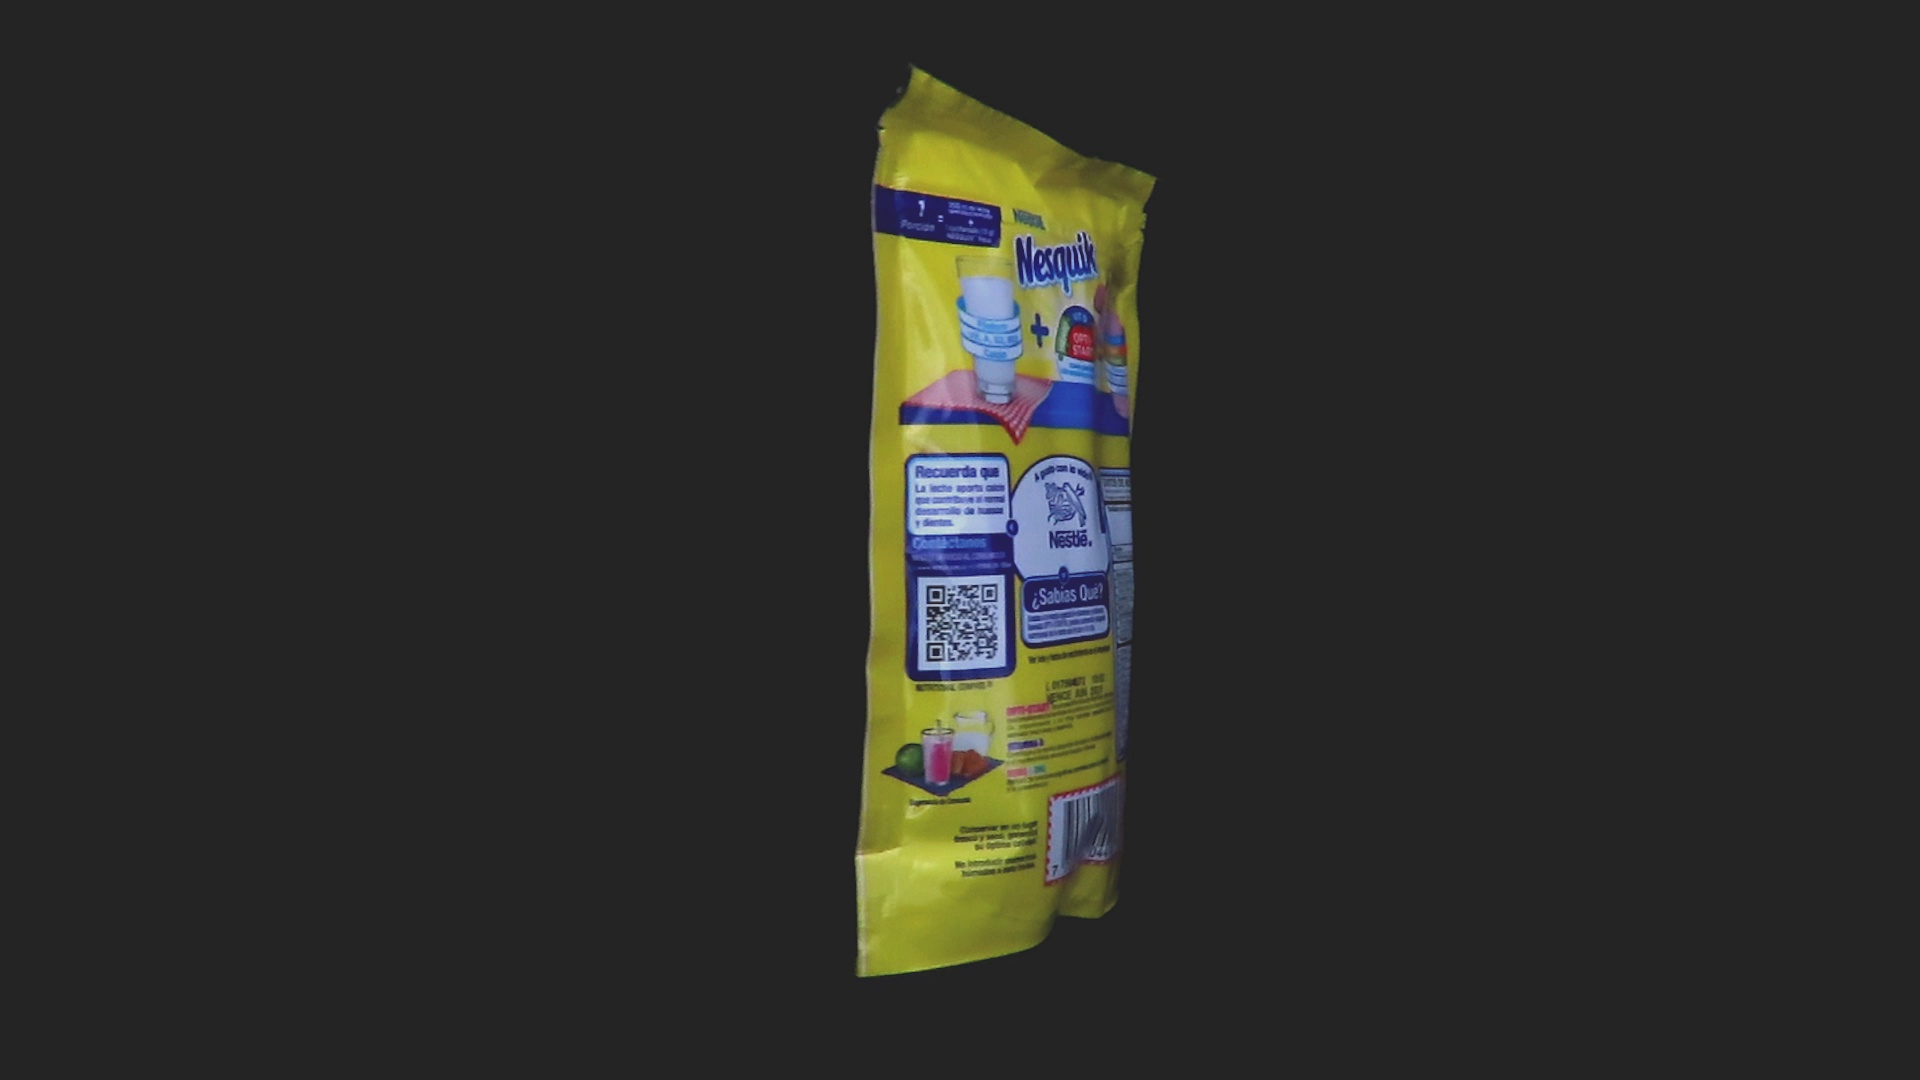COL0170305DYP20000: (851, 58, 1163, 984)
